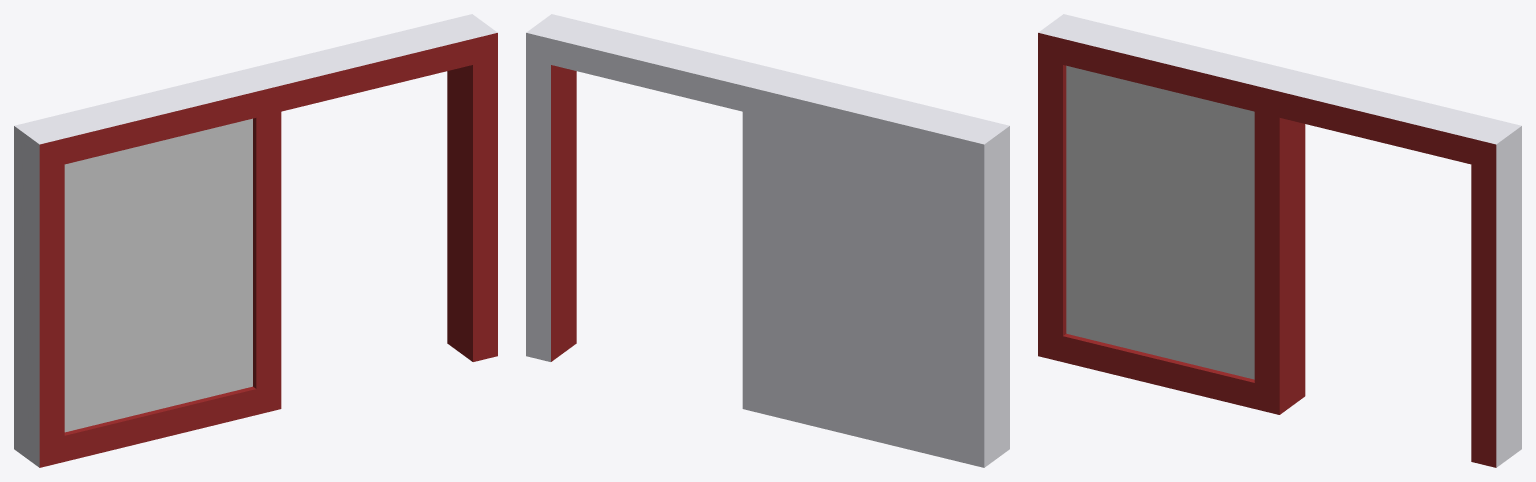
The model's file is Asian_Prop_Building_Modular_Wall_w_Upright_Doorway_01.FBX.
The picture shows the model from 3 angles, left to right: view 1: azimuth 30°, elevation 25°; view 2: azimuth 150°, elevation 25°; view 3: azimuth 330°, elevation 25°; orthographic projection.
Parts seen in each view (by area): view 1: Asian_Prop_Building_Modular_Wall_w_Upright_Doorway_01; view 2: Asian_Prop_Building_Modular_Wall_w_Upright_Doorway_01; view 3: Asian_Prop_Building_Modular_Wall_w_Upright_Doorway_01.
Boxes of the visible parts, box(x1,y1,x2,y2) form: Asian_Prop_Building_Modular_Wall_w_Upright_Doorway_01: box(14, 14, 497, 467); Asian_Prop_Building_Modular_Wall_w_Upright_Doorway_01: box(526, 14, 1009, 467); Asian_Prop_Building_Modular_Wall_w_Upright_Doorway_01: box(1038, 14, 1521, 467).
Size of the model in its own units: 5167 by 3485 by 500.
